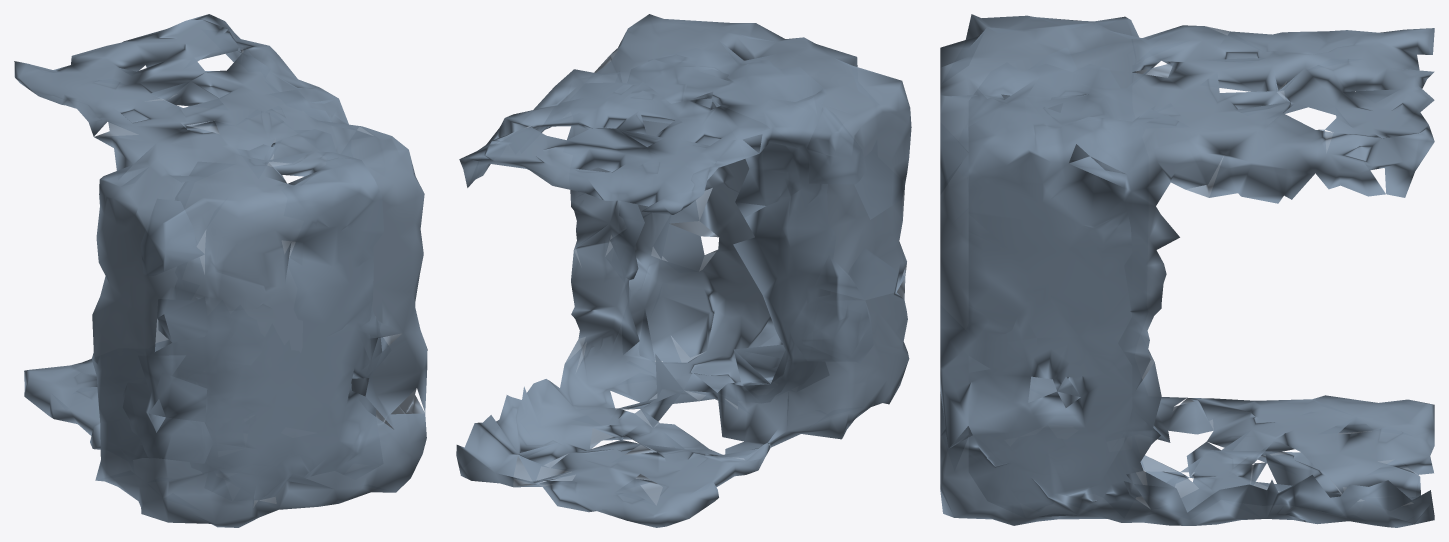
The model's file is sample_634_orig.obj.
3 renders of one model, left to right at view 1: azimuth 30°, elevation 25°; view 2: azimuth 150°, elevation 25°; view 3: azimuth 270°, elevation 25°, orthographic. The views are drawn at different scales.
Size of the model in its own units: 0.8673 by 1.05 by 1.22.
